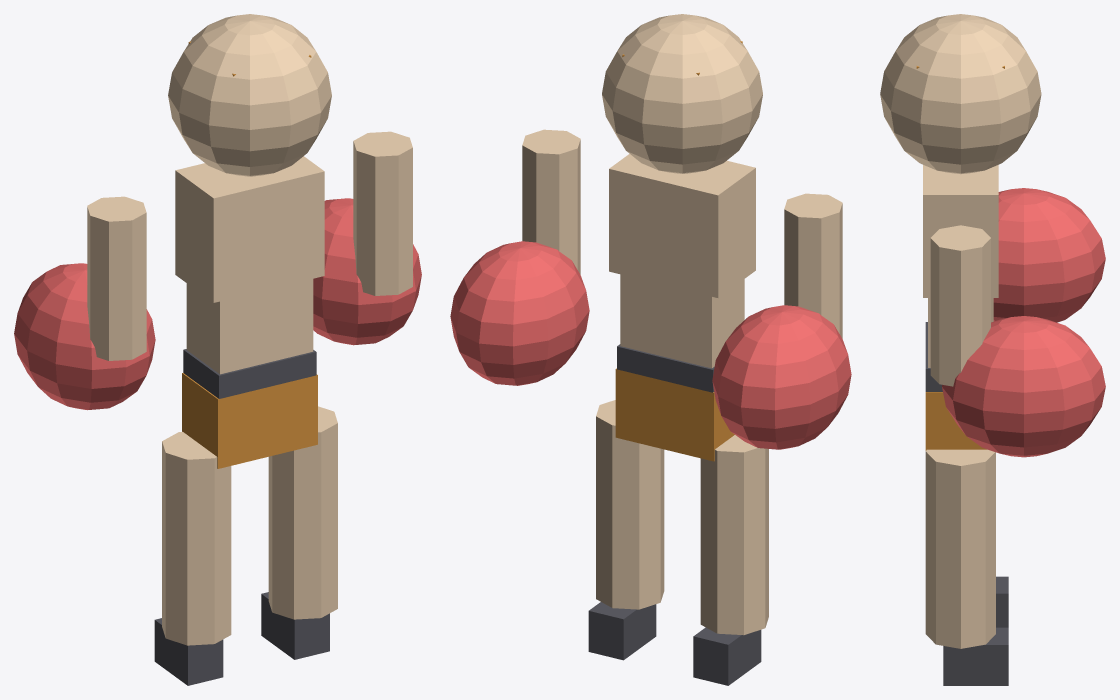
File: fighter.glb
3 renders of one model, left to right at view 1: azimuth 30°, elevation 25°; view 2: azimuth 150°, elevation 25°; view 3: azimuth 270°, elevation 25°, orthographic.
Visible parts, largest first — view 1: Head, Chest, Leg_L, Leg_R, Glove_L, Arm_L, Arm_R, Abdomen, Shorts, Glove_R, Belt, Boot_L (+1 smaller); view 2: Head, Chest, Glove_L, Glove_R, Leg_L, Leg_R, Abdomen, Shorts, Arm_L, Arm_R, Boot_R, Boot_L (+1 smaller); view 3: Head, Glove_R, Leg_R, Glove_L, Arm_R, Chest, Boot_R, Shorts, Boot_L, Belt.
Boxes of the visible parts, x1=… form: Head: x1=168, y1=14, x2=331, y2=176; Chest: x1=175, y1=156, x2=324, y2=302; Leg_L: x1=162, y1=431, x2=231, y2=645; Leg_R: x1=268, y1=406, x2=337, y2=619; Glove_L: x1=14, y1=263, x2=155, y2=410; Arm_L: x1=87, y1=196, x2=146, y2=360; Arm_R: x1=353, y1=131, x2=412, y2=295; Abdomen: x1=186, y1=279, x2=313, y2=374; Shorts: x1=182, y1=373, x2=317, y2=468; Glove_R: x1=313, y1=198, x2=421, y2=345; Belt: x1=183, y1=349, x2=316, y2=398; Boot_L: x1=154, y1=618, x2=223, y2=685; Head: x1=602, y1=14, x2=762, y2=173; Chest: x1=609, y1=154, x2=755, y2=297; Glove_L: x1=712, y1=305, x2=851, y2=449; Glove_R: x1=450, y1=241, x2=589, y2=385; Leg_L: x1=700, y1=435, x2=768, y2=635; Leg_R: x1=596, y1=400, x2=664, y2=609; Abdomen: x1=620, y1=274, x2=744, y2=368; Shorts: x1=615, y1=368, x2=734, y2=461; Arm_L: x1=784, y1=193, x2=842, y2=338; Arm_R: x1=522, y1=129, x2=580, y2=274; Boot_R: x1=588, y1=602, x2=656, y2=660; Boot_L: x1=693, y1=627, x2=761, y2=685; Head: x1=880, y1=14, x2=1041, y2=174; Glove_R: x1=942, y1=316, x2=1105, y2=457; Leg_R: x1=925, y1=449, x2=995, y2=648; Glove_L: x1=993, y1=188, x2=1105, y2=322; Arm_R: x1=930, y1=225, x2=990, y2=386; Chest: x1=923, y1=165, x2=998, y2=297; Boot_R: x1=943, y1=627, x2=1008, y2=685; Shorts: x1=925, y1=392, x2=986, y2=450; Boot_L: x1=996, y1=576, x2=1008, y2=627; Belt: x1=925, y1=322, x2=942, y2=391.
Size of the model in its own units: 1.72 by 2.76 by 0.895.
